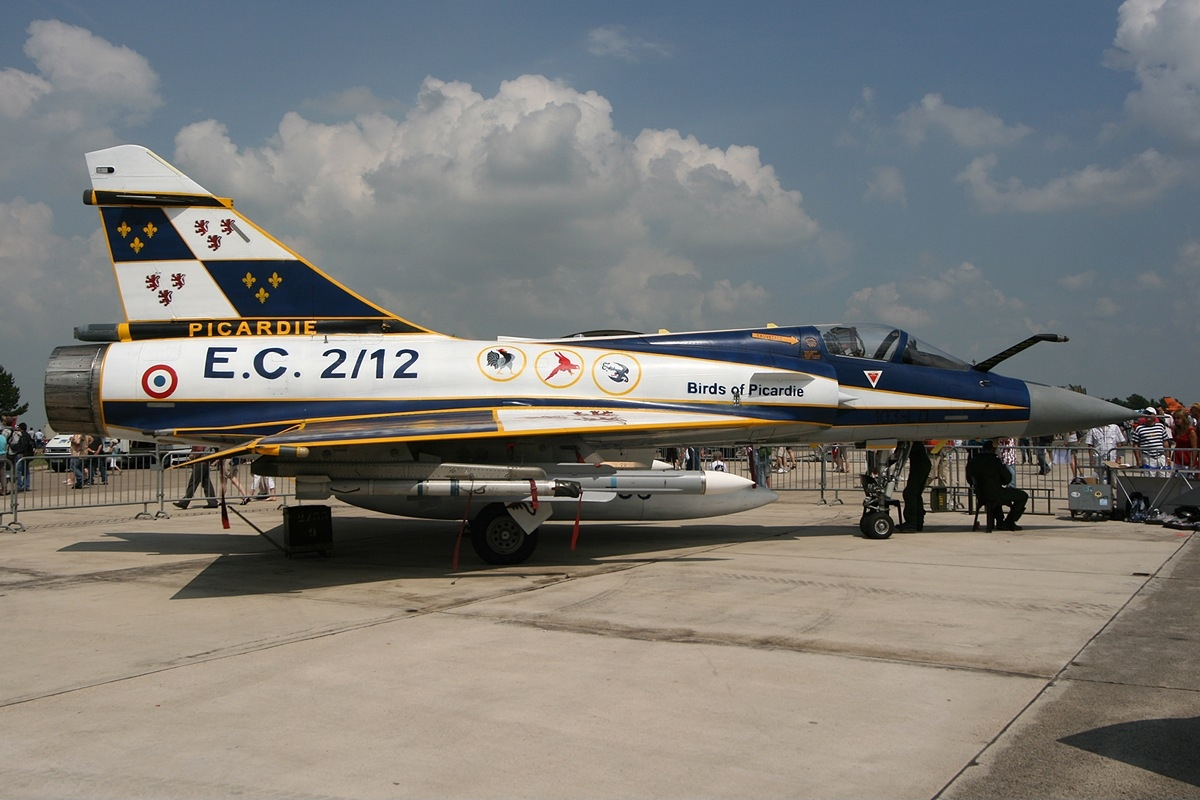Mirage2000: (43, 143, 1172, 563)
